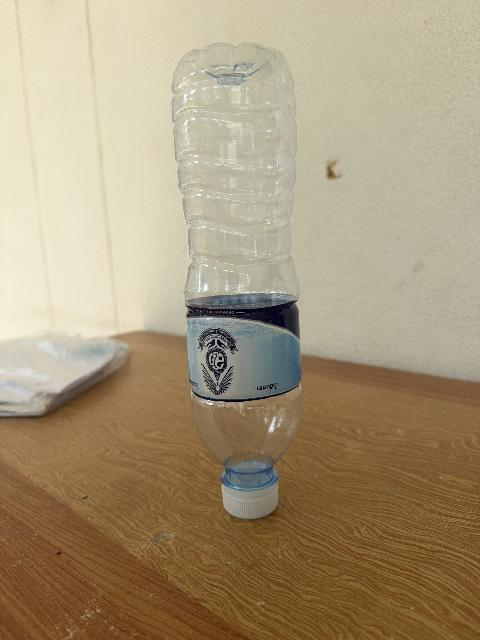bottle: (173, 44, 301, 518)
